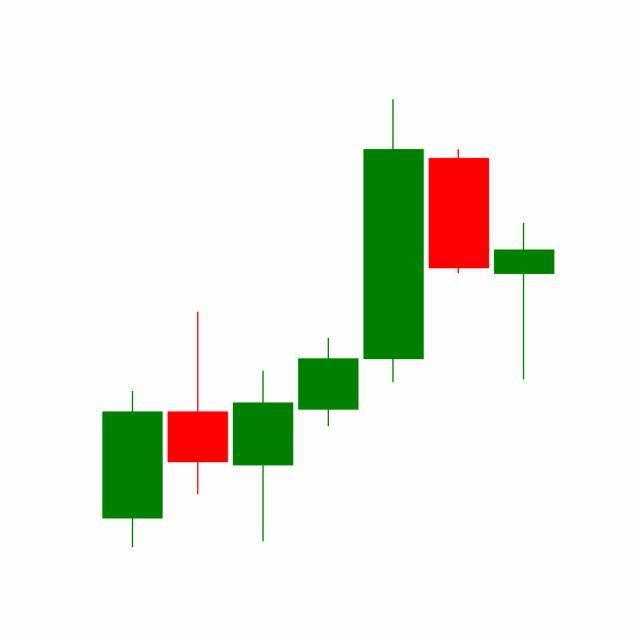Hikkake Pattern: (229, 100, 555, 548)
